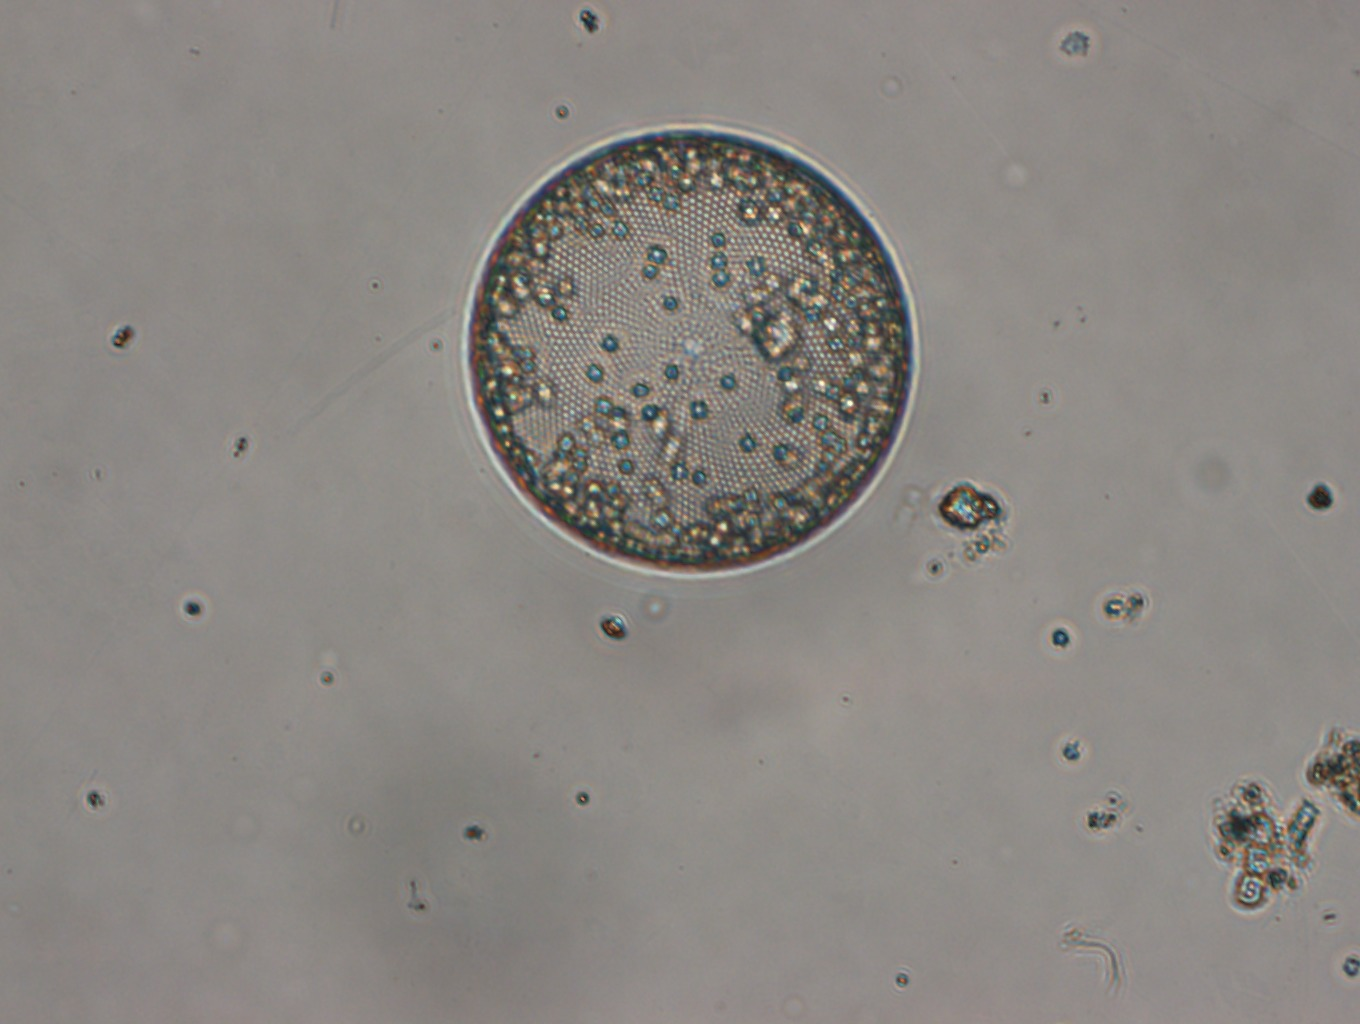coscinodiscus: (450, 122, 933, 582)
